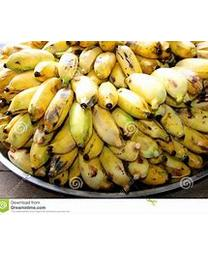banana: (0, 35, 206, 191)
